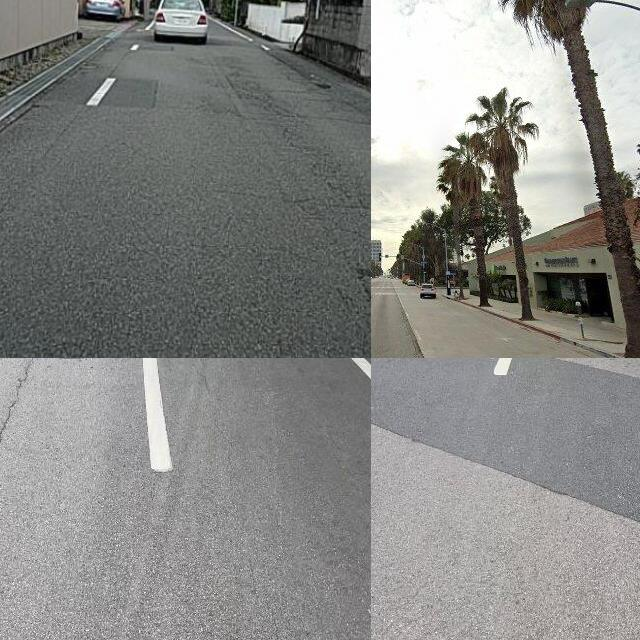Memanjang: (0, 358, 51, 493)
Sambungan: (371, 358, 640, 527), (23, 64, 168, 119)
